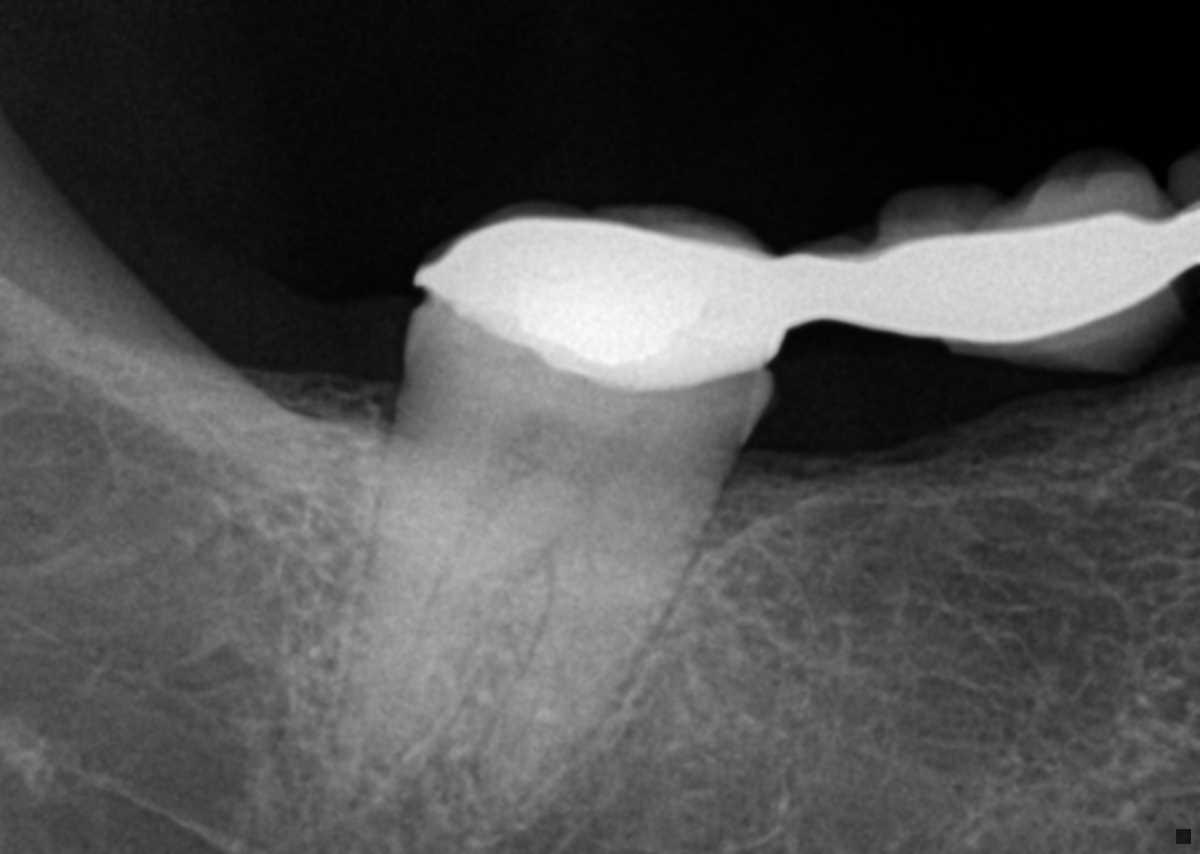Distal Canal: (388, 519, 475, 715)
Distal Root: (331, 489, 537, 771)
Mesial Root: (472, 521, 700, 809)
